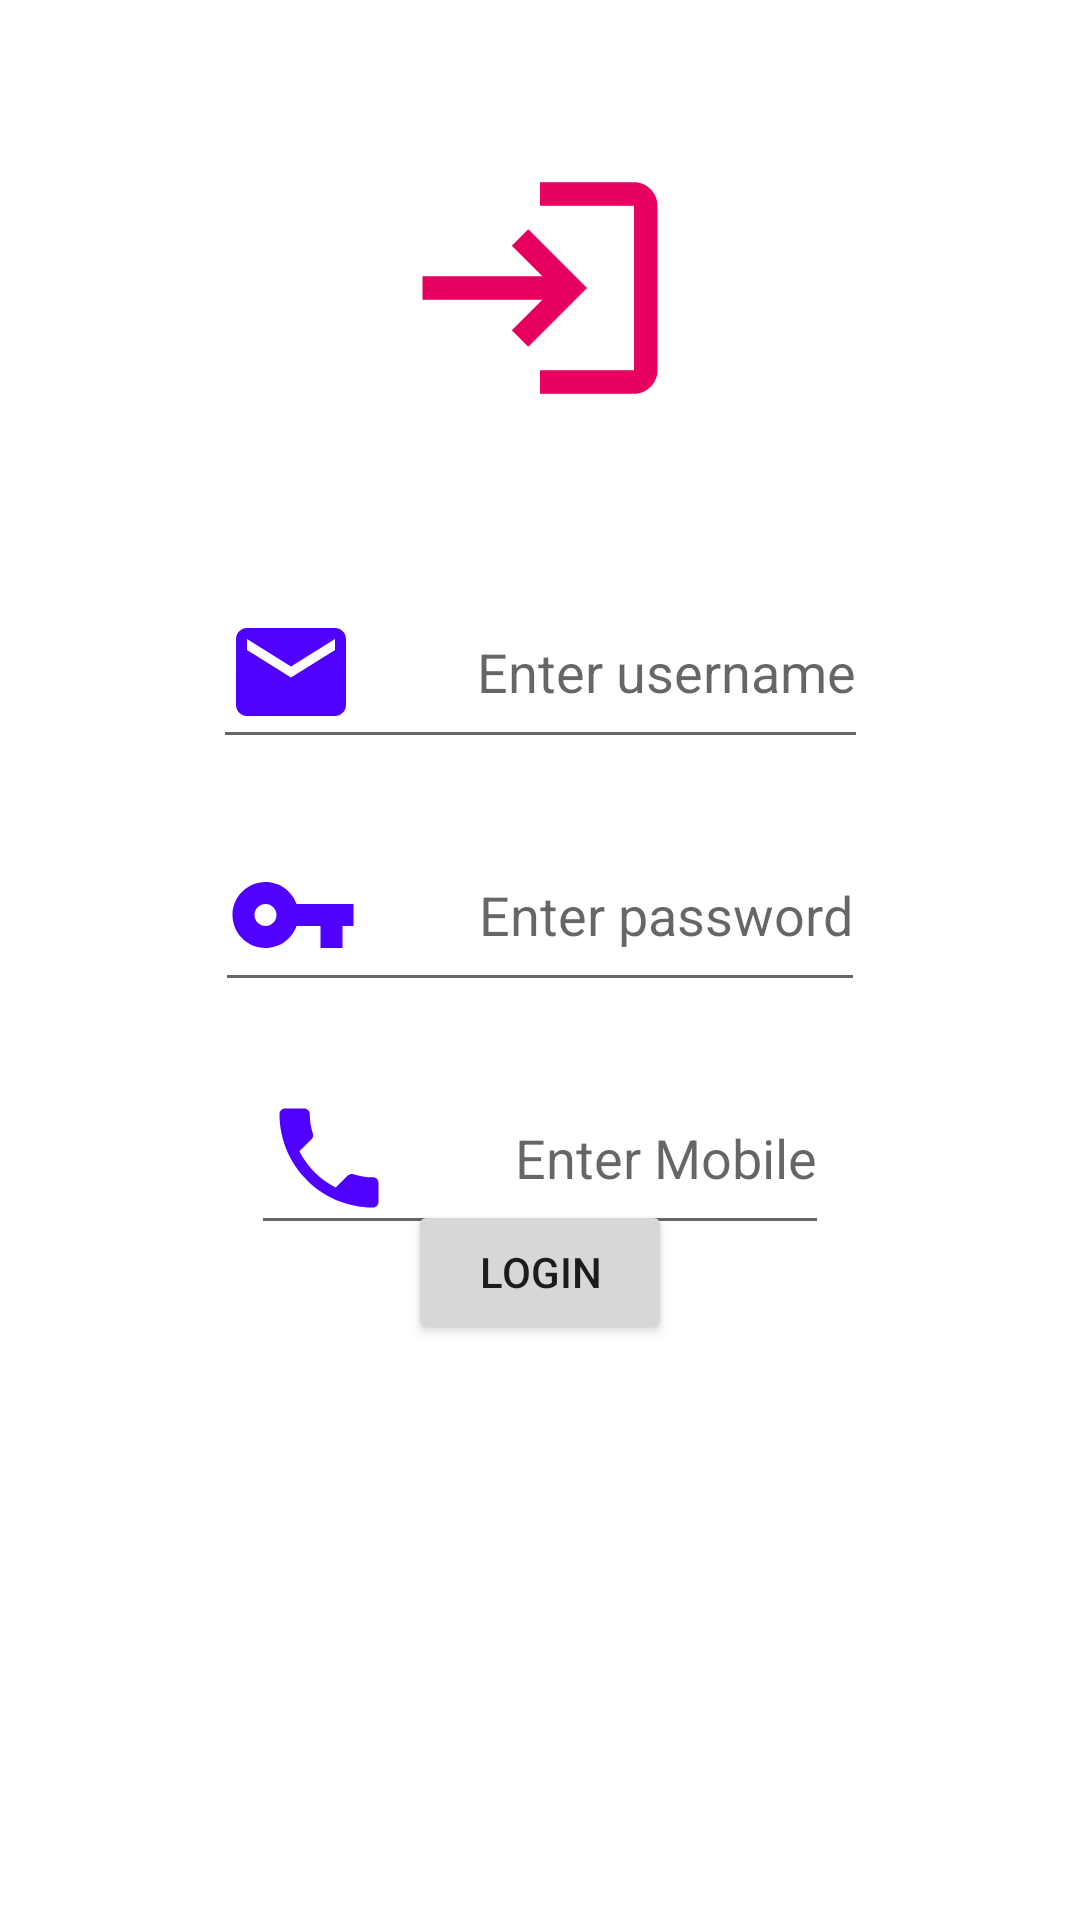

Icon bounding boxes for this 1080 x 1920 phone screenshot, format {"x1": x1, "y1": y1, "x2": x2, "y2": y2}:
login: {"x1": 422, "y1": 182, "x2": 658, "y2": 394}
